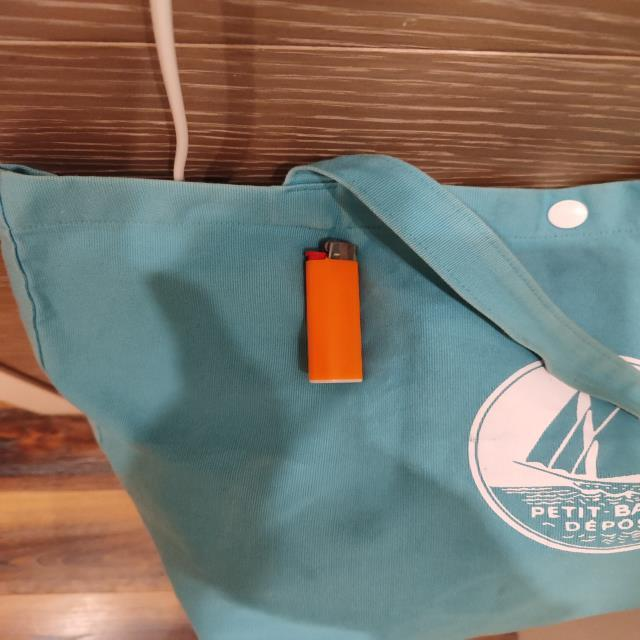lighter: (307, 241, 361, 383)
